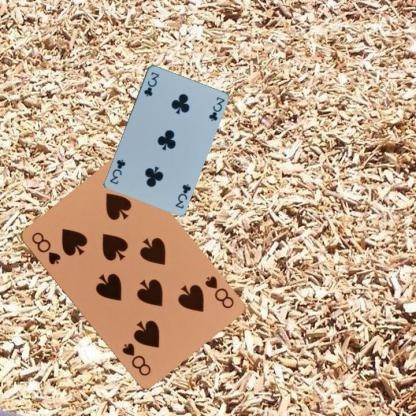3c: (172, 181, 192, 210), (141, 69, 160, 98)
8s: (201, 272, 235, 310), (28, 230, 62, 266)
